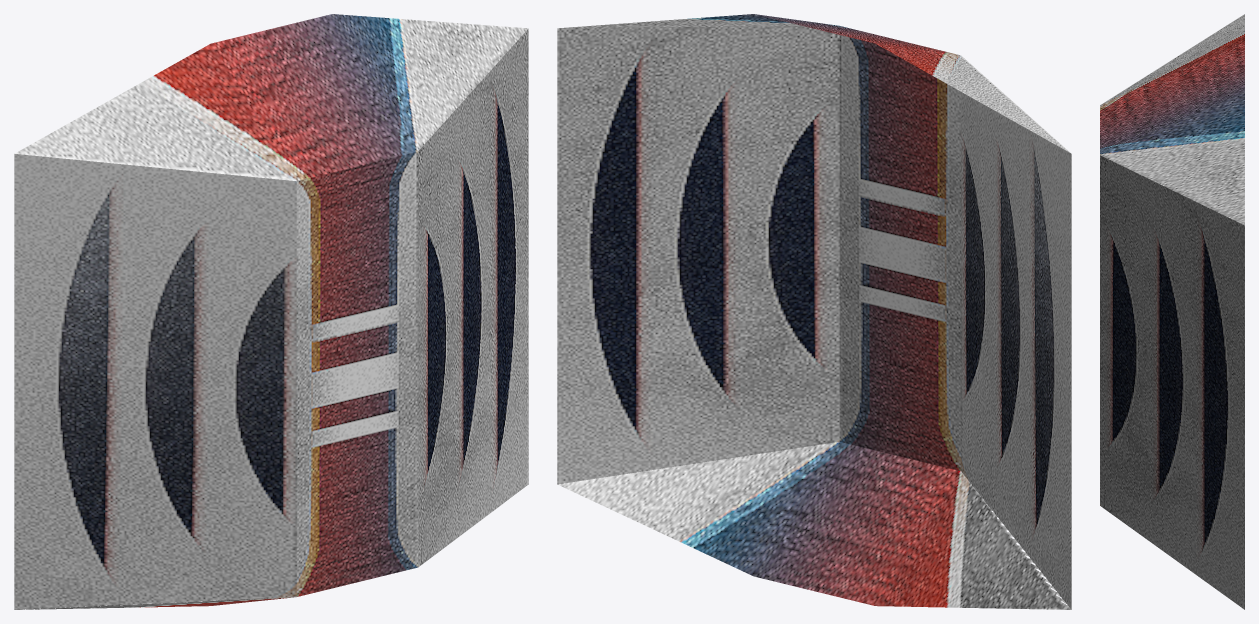
Rendered from listen_1.obj.
The picture shows the model from 3 angles, left to right: view 1: azimuth 30°, elevation 25°; view 2: azimuth 150°, elevation 25°; view 3: azimuth 270°, elevation 25°; orthographic projection. The views are drawn at different scales.
Parts seen in each view (by area): view 1: head; view 2: head; view 3: head.
Boxes of the visible parts, x1,y1,x2,y2 form: head: (14,14,528,609); head: (557,14,1071,609); head: (1100,14,1244,609).
Bounding box in the file's own units: 236 × 247 × 68.4.
Materials: 1 (1 with a texture image).
